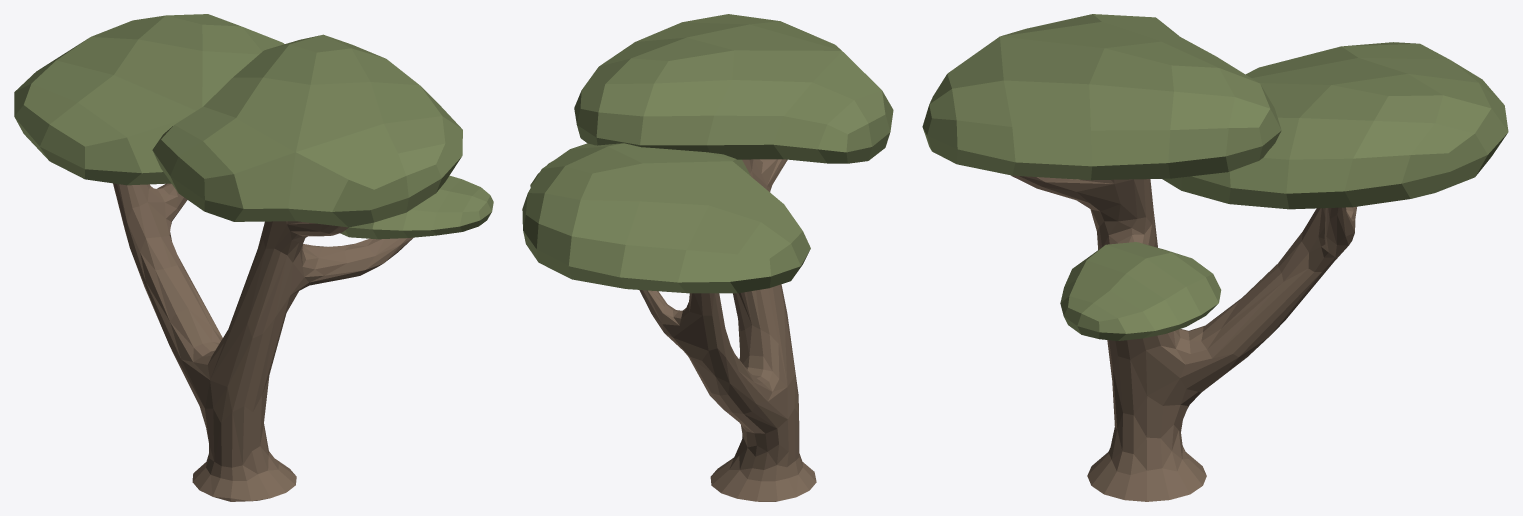
File: tree-15.fbx
3 views of the same model, side by side, from view 1: azimuth 30°, elevation 25°; view 2: azimuth 150°, elevation 25°; view 3: azimuth 270°, elevation 25° (orthographic). The views are drawn at different scales.
Visible parts, largest first — view 1: Cube.068, Cube.067, Cube.069, Cube.070; view 2: Cube.068, Cube.069, Cube.067; view 3: Cube.068, Cube.069, Cube.067, Cube.070.
Boxes of the visible parts, <box> form: Cube.068: <box>152,34,462,227</box>; Cube.067: <box>113,183,413,501</box>; Cube.069: <box>14,14,284,185</box>; Cube.070: <box>340,175,493,239</box>; Cube.068: <box>574,14,893,163</box>; Cube.069: <box>522,143,810,293</box>; Cube.067: <box>639,159,816,501</box>; Cube.068: <box>922,14,1281,180</box>; Cube.069: <box>1162,42,1508,209</box>; Cube.067: <box>1011,175,1356,501</box>; Cube.070: <box>1060,242,1221,340</box>.
Size of the model in its own units: 1374 by 1503 by 1729.
